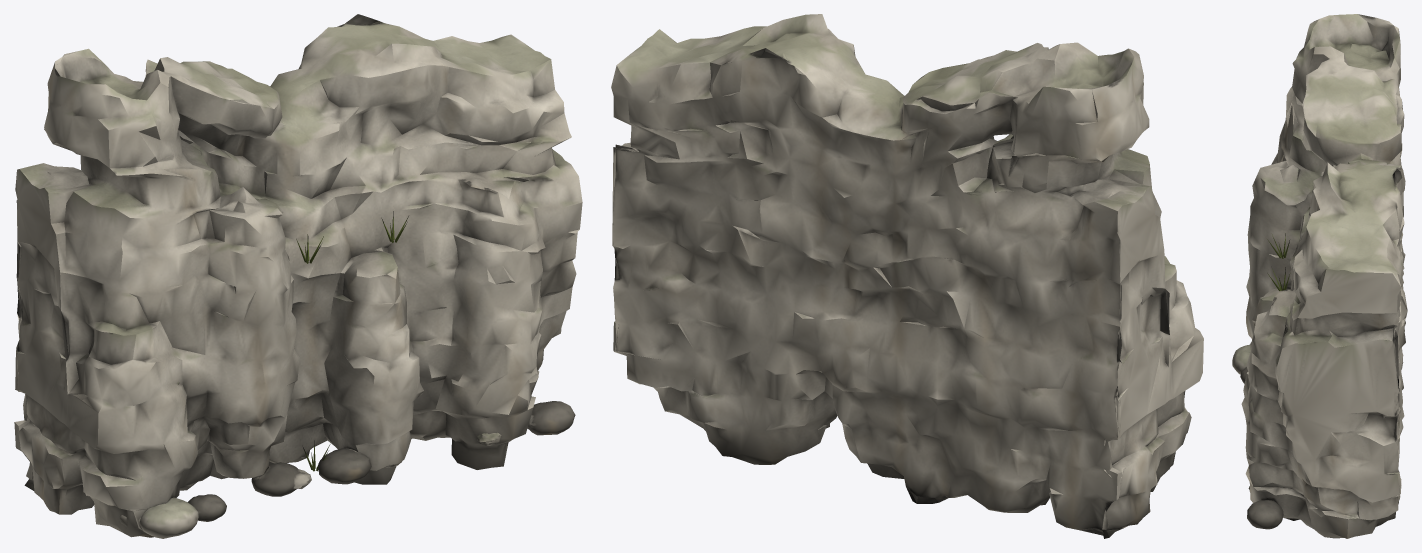
Rendered from costa_penhasco_b.glb.
3 views of the same model, side by side, from view 1: azimuth 30°, elevation 25°; view 2: azimuth 150°, elevation 25°; view 3: azimuth 270°, elevation 25° (orthographic). The views are drawn at different scales.
Parts seen in each view (by area): view 1: costa_penhasco_b; view 2: costa_penhasco_b; view 3: costa_penhasco_b.
Part boxes in pixels (x1,y1,x2,y2): costa_penhasco_b: (14, 14, 582, 538); costa_penhasco_b: (611, 14, 1203, 538); costa_penhasco_b: (1232, 14, 1407, 538).
Bounding box in the file's own units: 10.82 × 9.48 × 4.11.
Materials: 1 (1 with a texture image).
